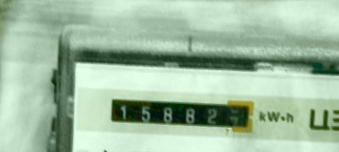1: (116, 103, 128, 122)
2: (204, 107, 217, 125)
5: (137, 105, 151, 123)
7: (226, 115, 238, 129)
8: (160, 106, 173, 124), (183, 108, 195, 124)
screen: (102, 88, 259, 138)
